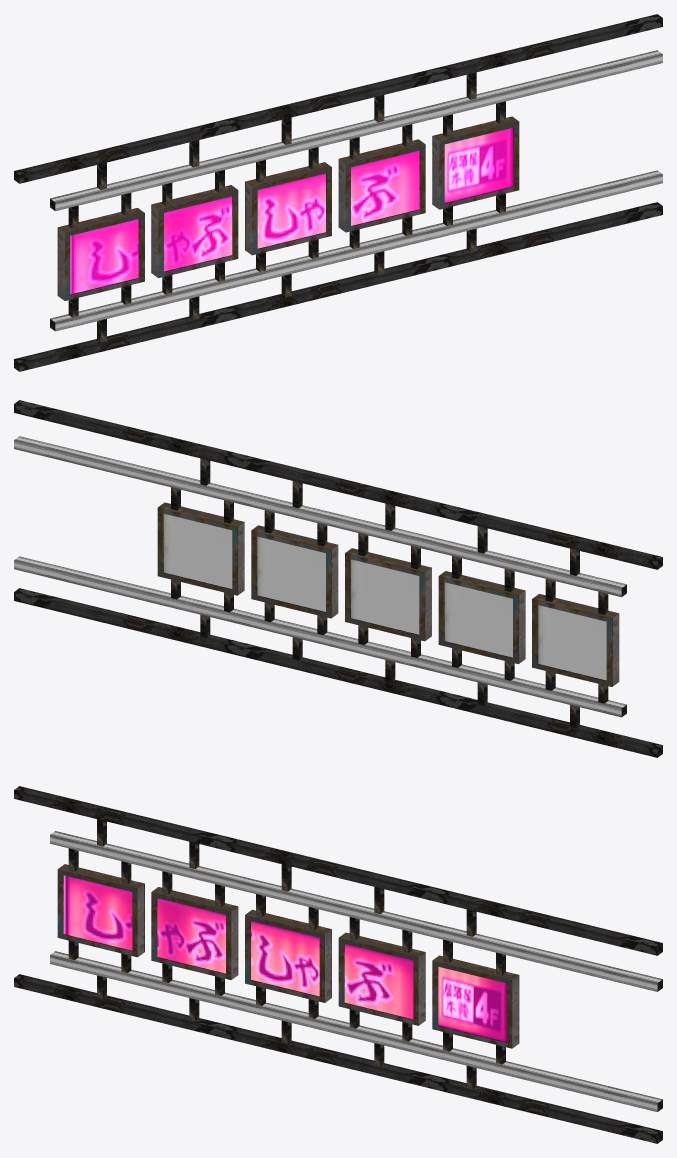
File: pm-japanese-sign-02.glb
3 views of the same model, one above another, from view 1: azimuth 30°, elevation 25°; view 2: azimuth 150°, elevation 25°; view 3: azimuth 330°, elevation 25° (orthographic).
Parts seen in each view (by area): view 1: Japanese_Sign_02; view 2: Japanese_Sign_02; view 3: Japanese_Sign_02.
Boxes of the visible parts, left/top/right/bottom form: Japanese_Sign_02: left=14, top=14, right=662, bottom=371; Japanese_Sign_02: left=14, top=400, right=662, bottom=757; Japanese_Sign_02: left=14, top=786, right=662, bottom=1143.
Size of the model in its own units: 2.53 by 0.7398 by 0.0482.
Materials: 2 (1 with a texture image).
